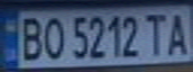1: (106, 12, 124, 60)
2: (87, 12, 109, 60), (121, 11, 142, 58)
5: (66, 12, 90, 61)
A: (163, 9, 193, 57)
B: (15, 14, 48, 62)
O: (39, 14, 66, 61)
T: (142, 10, 169, 57)
